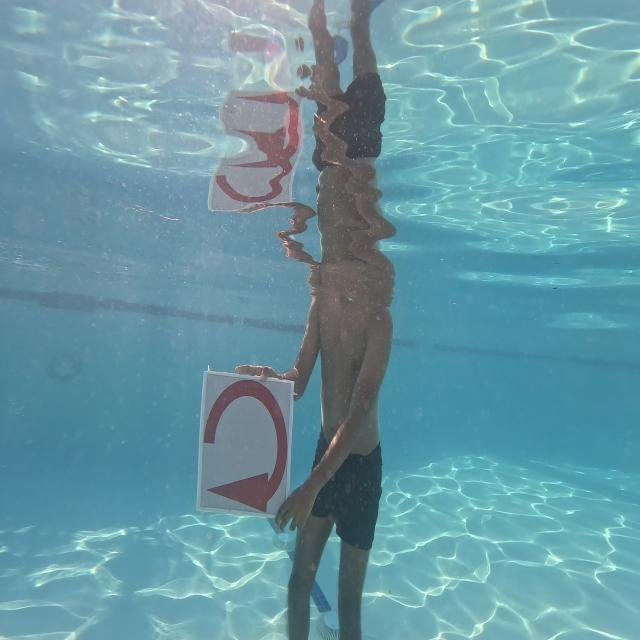red_side: (198, 376, 291, 522)
